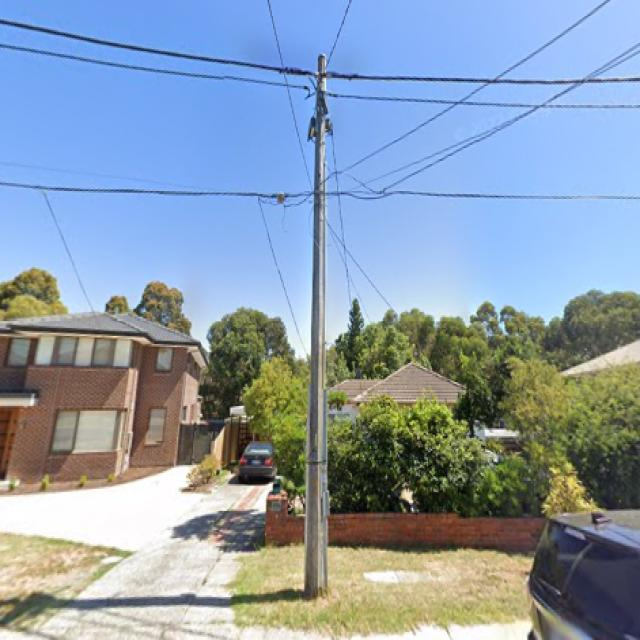timber-pole: (303, 54, 328, 599)
